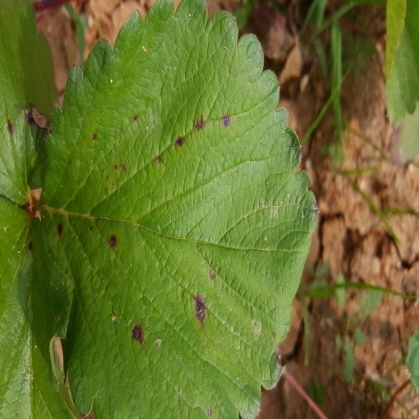Leaf_Spot: (38, 0, 385, 418)
